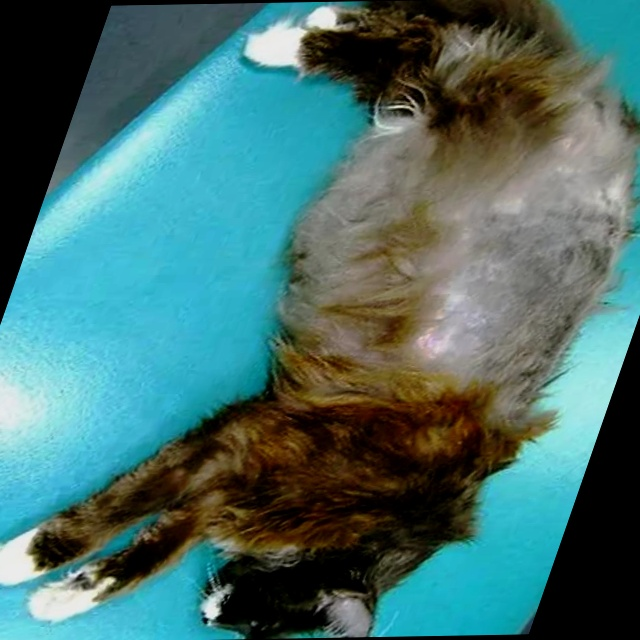hairloss: (423, 105, 640, 394), (282, 137, 442, 339)
